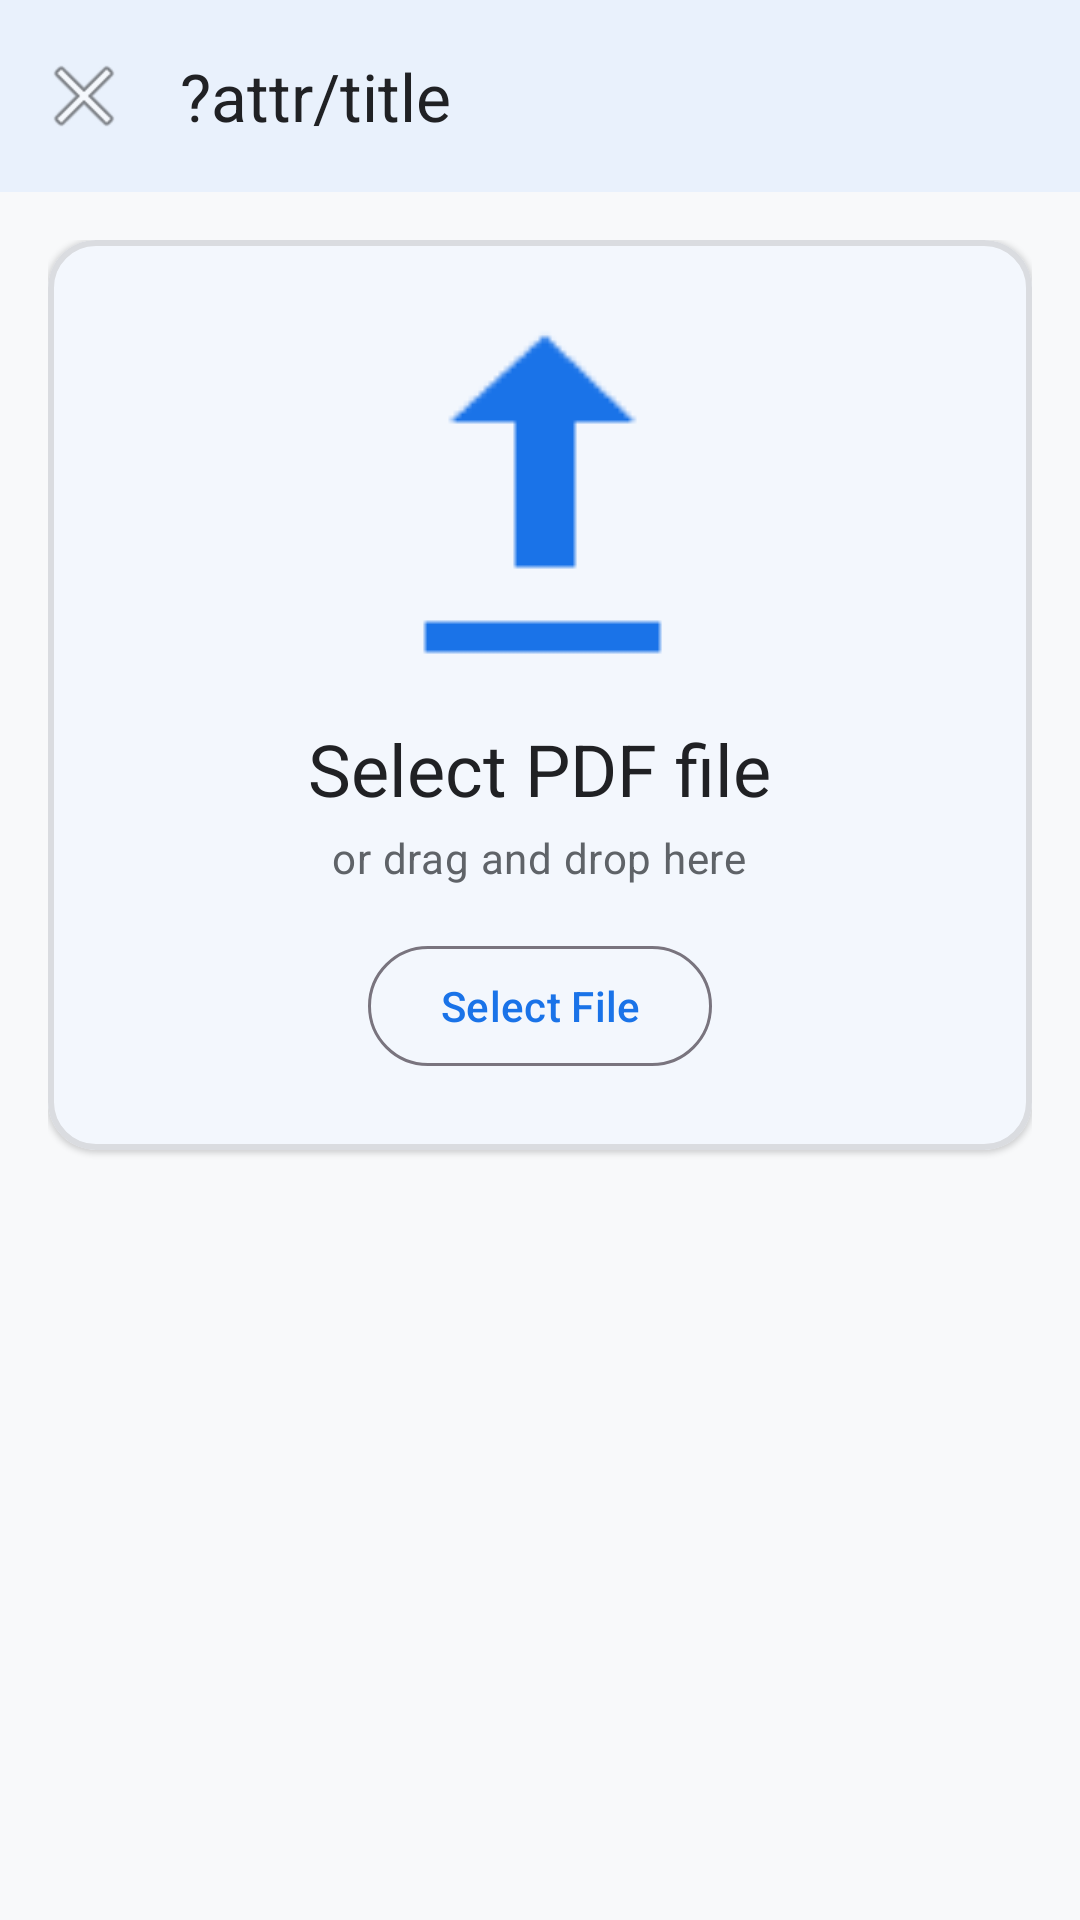

Icon click points for this 1080px×1920px phone screenshot, format point (x, y):
Upload icon: point (542, 494)
